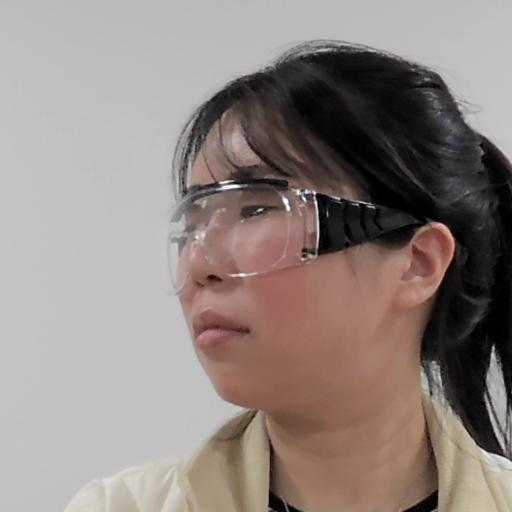glasses: (152, 43, 489, 429)
